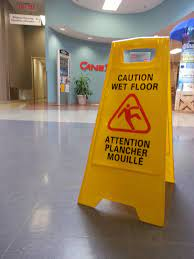wet caution sign: (78, 35, 174, 205)
